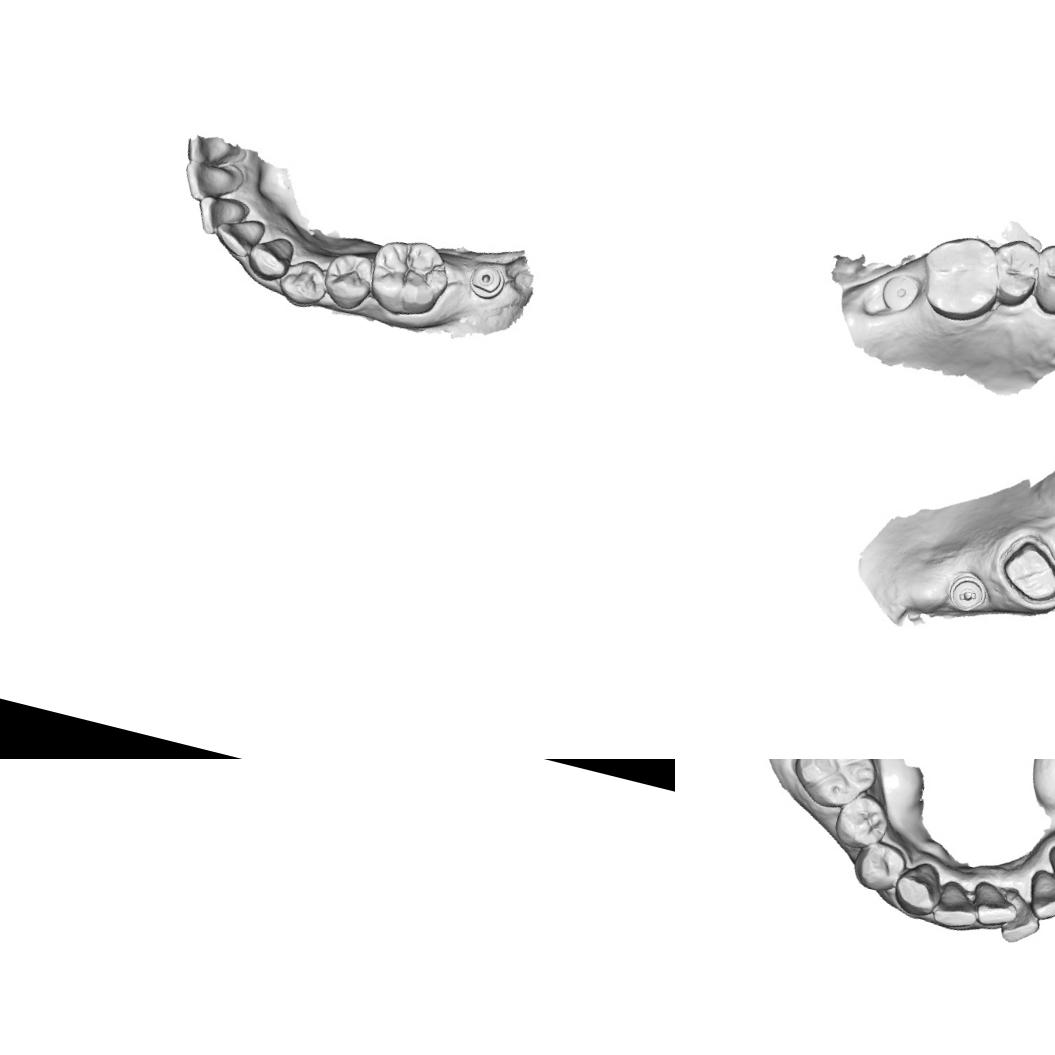canine: (888, 853, 950, 921), (242, 228, 298, 286), (1038, 837, 1055, 901)
crown: (995, 531, 1055, 609)
implant: (876, 269, 926, 317), (463, 256, 509, 304)
implant_minus: (943, 566, 994, 616)
incisor: (928, 874, 988, 936), (991, 884, 1047, 950), (176, 156, 241, 211), (208, 208, 267, 264), (967, 878, 1026, 934), (190, 188, 250, 242), (1020, 865, 1055, 928)
molar: (908, 222, 1010, 329), (360, 229, 458, 327), (784, 759, 887, 817)
premolar: (982, 230, 1048, 314), (829, 787, 895, 855), (317, 245, 380, 314), (272, 252, 336, 314), (848, 836, 912, 898), (1021, 234, 1055, 322)
